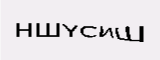В: (98, 11, 110, 39)
Ж: (107, 10, 129, 36)
О: (75, 9, 96, 40)
Ф: (30, 18, 49, 46)
Я: (48, 10, 71, 39)
